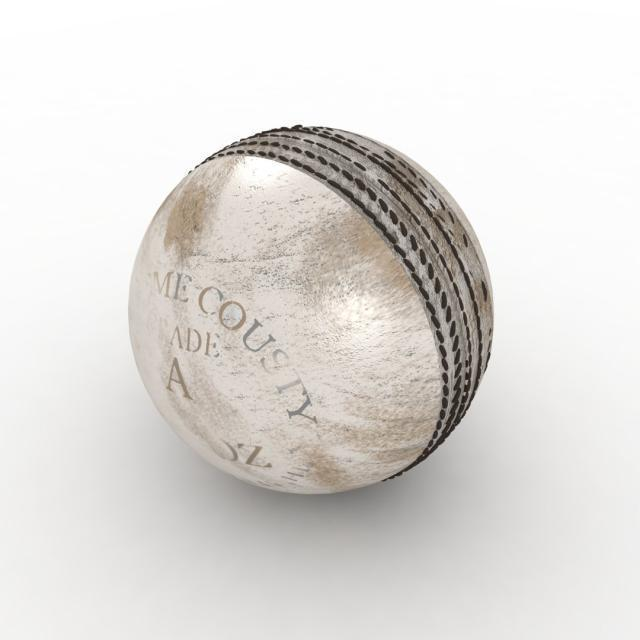cricket ball: (127, 123, 493, 495)
